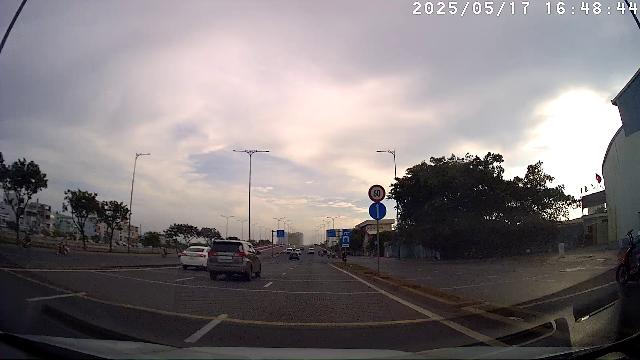127-toc-do-toi-da-60: (368, 184, 386, 202)
301a-cac-xe-chi-duoc-di-thang: (369, 202, 387, 220)
